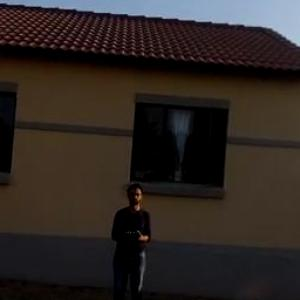follow: (104, 177, 155, 299)
